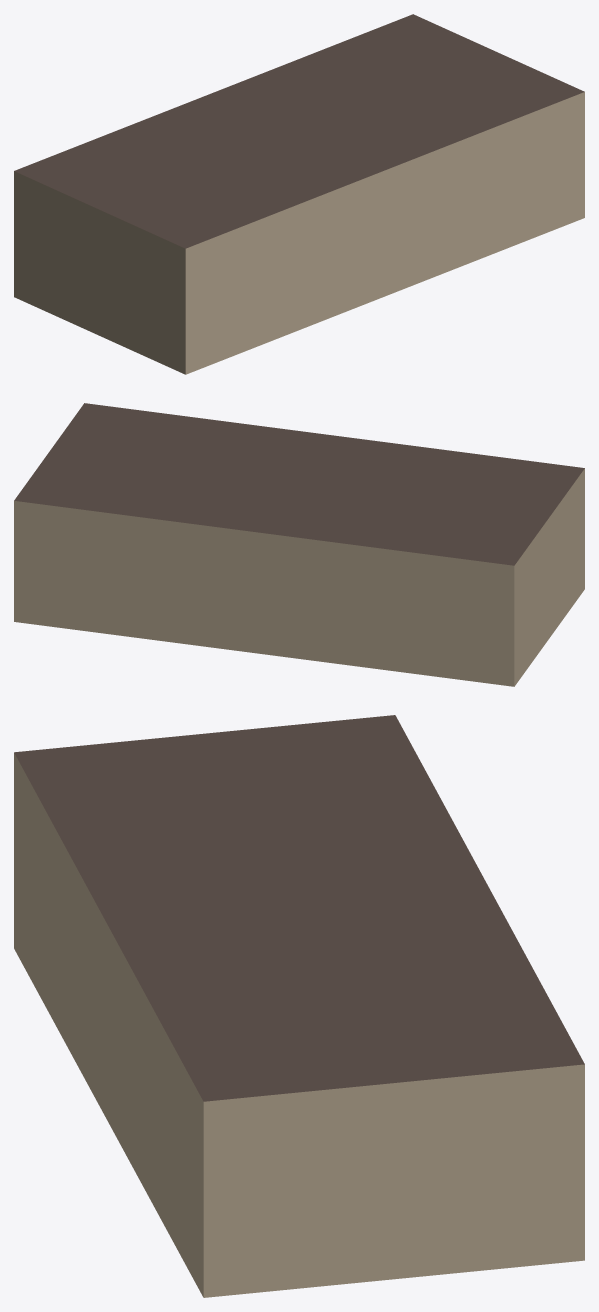
3 views of the same model, one above another, from view 1: azimuth 30°, elevation 25°; view 2: azimuth 150°, elevation 25°; view 3: azimuth 270°, elevation 25° (orthographic). The views are drawn at different scales.
Parts seen in each view (by area): view 1: HP-w859488815; view 2: HP-w859488815; view 3: HP-w859488815.
Part boxes in pixels (box(x1,y1,x2,y2)): HP-w859488815: box(14, 14, 584, 374); HP-w859488815: box(14, 403, 584, 686); HP-w859488815: box(14, 715, 584, 1297).
Size of the model in its own units: 38.05 by 9 by 23.74.
